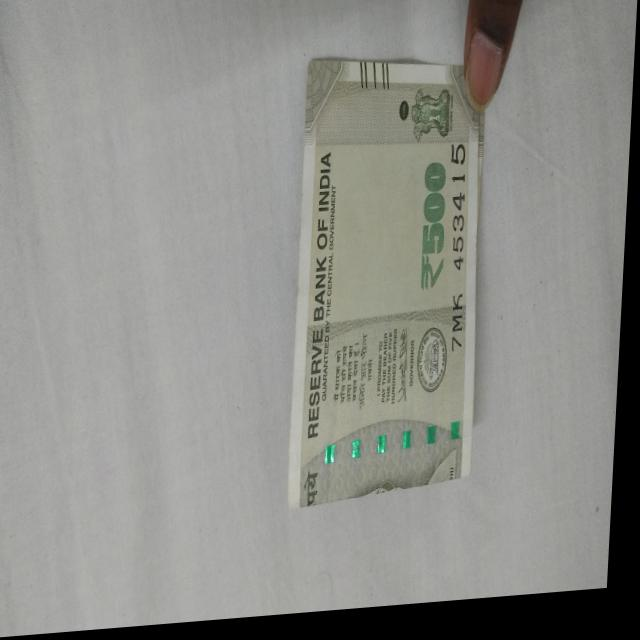Currency: (292, 63, 510, 520)
